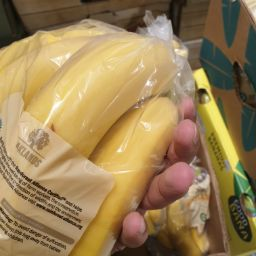Bannana: (3, 19, 177, 256), (39, 27, 180, 213)
